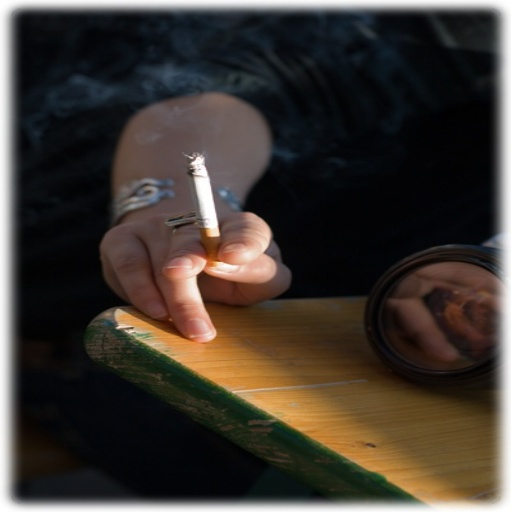hand: (71, 187, 308, 325)
